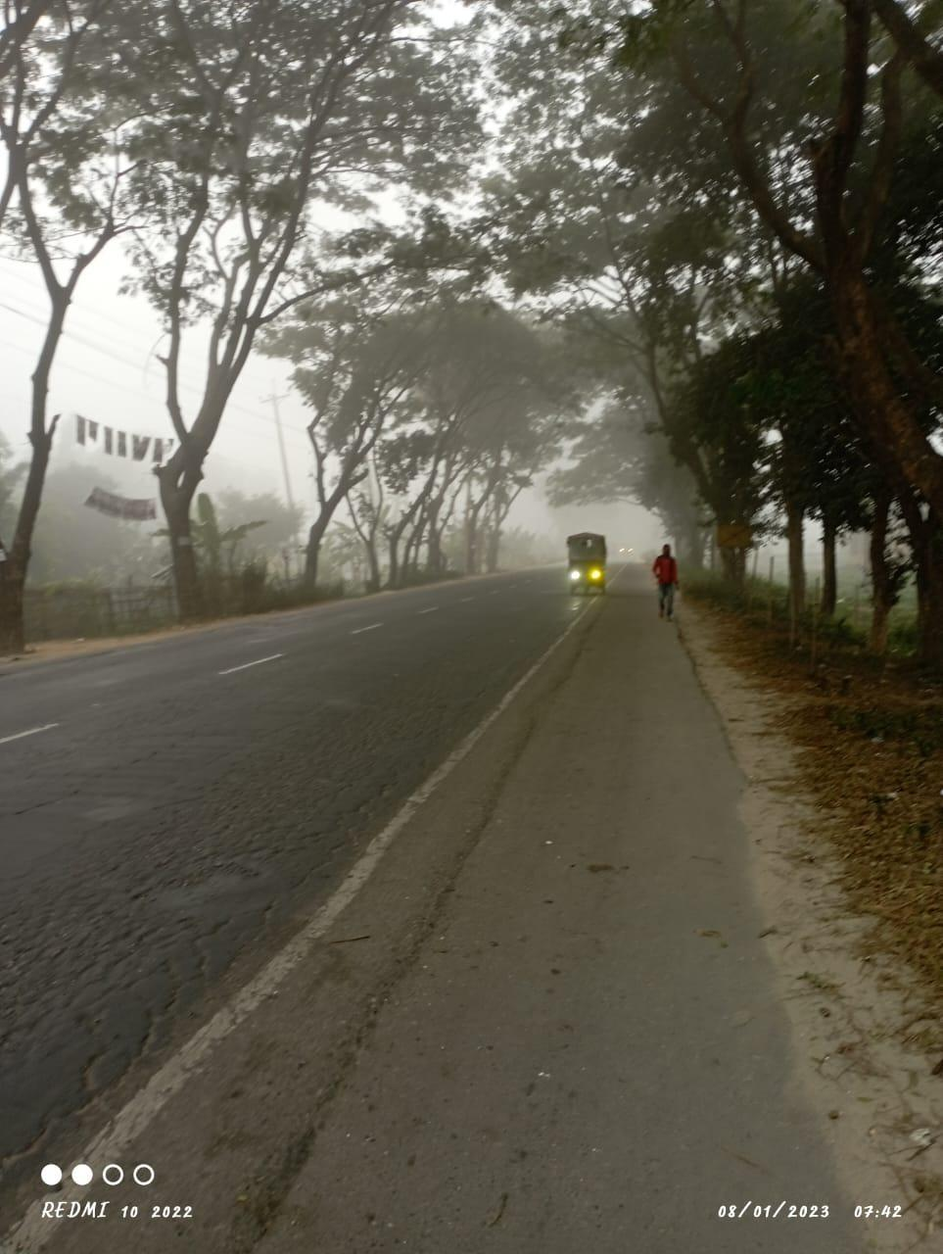Car: (552, 525, 623, 604)
